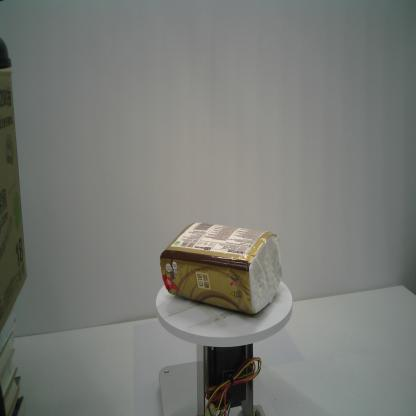Tissue: (159, 221, 284, 316)
